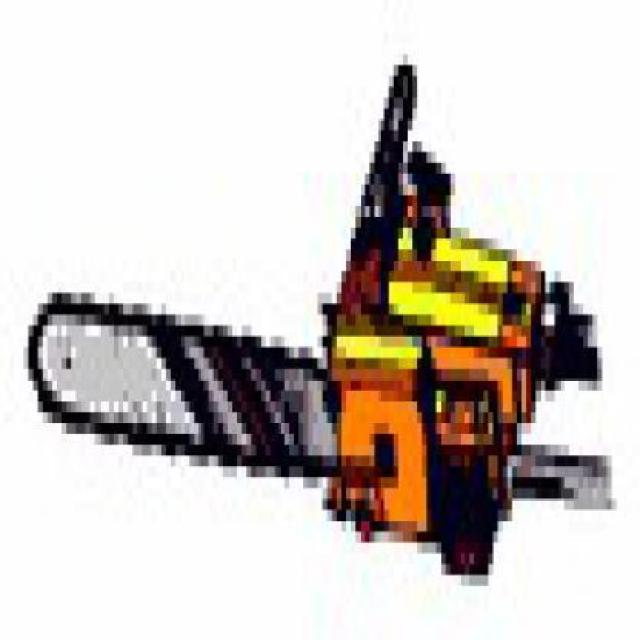Chainsaw: (21, 52, 617, 590)
